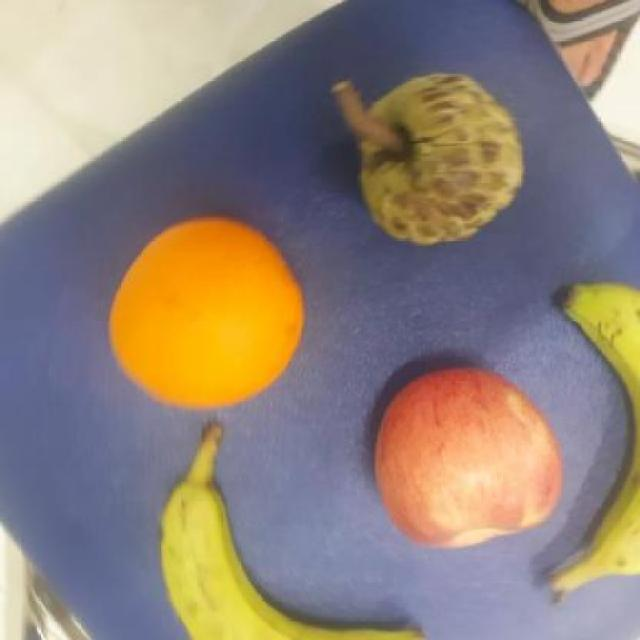apple: (367, 358, 567, 548)
banana: (158, 481, 430, 639), (553, 275, 639, 580)
oren: (106, 218, 303, 412)
sugar apple: (356, 74, 527, 248)
